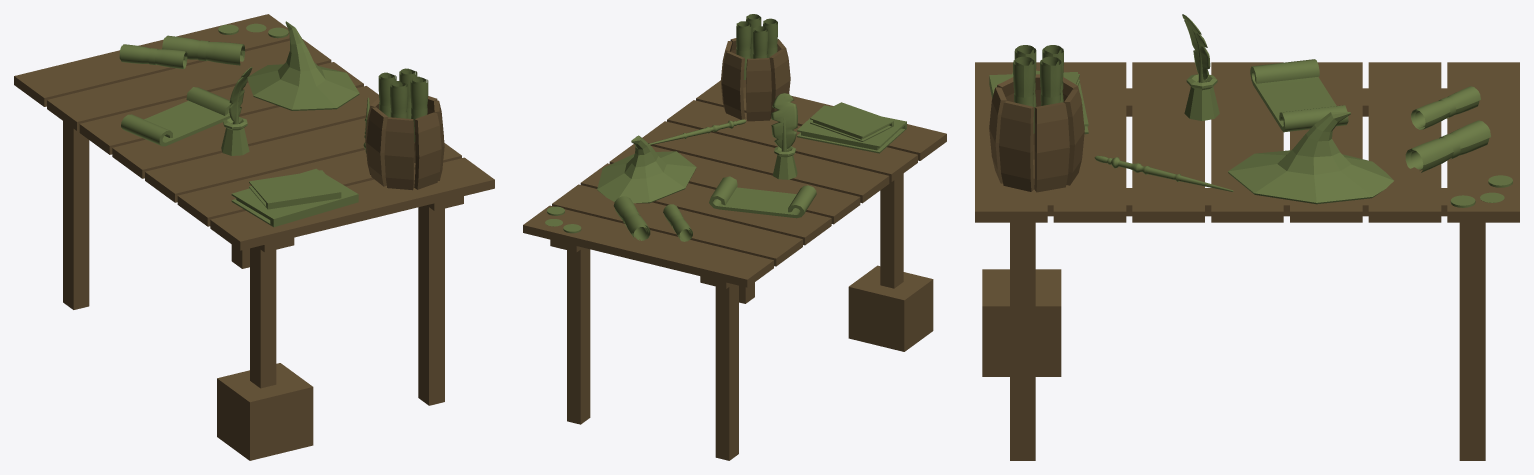
Rendered from mesa2Encantamiento.fbx.
The picture shows the model from 3 angles, left to right: view 1: azimuth 30°, elevation 25°; view 2: azimuth 150°, elevation 25°; view 3: azimuth 270°, elevation 25°; orthographic projection. The views are drawn at different scales.
Parts seen in each view (by area): view 1: polySurface5218, polySurface5223, polySurface5265, polySurface5257, polySurface5224, polySurface5229, polySurface5271, polySurface5261, polySurface5226, polySurface5260, polySurface5253, polySurface5251; view 2: polySurface5218, polySurface5223, polySurface5265, polySurface5257, polySurface5224, polySurface5229, polySurface5271, polySurface5261, polySurface5251, polySurface5226, polySurface5253, polySurface5260 (+1 smaller); view 3: polySurface5218, polySurface5265, polySurface5257, polySurface5223, polySurface5224, polySurface5271, polySurface5226, polySurface5260, polySurface5253, polySurface5256, polySurface5251.
Part boxes in pixels (x1,y1,x2,y2): polySurface5218: (14, 14, 494, 405); polySurface5223: (217, 363, 313, 460); polySurface5265: (365, 96, 444, 190); polySurface5257: (247, 21, 359, 110); polySurface5224: (121, 87, 231, 146); polySurface5229: (249, 170, 341, 209); polySurface5271: (378, 68, 428, 142); polySurface5261: (231, 168, 358, 227); polySurface5226: (162, 35, 245, 65); polySurface5260: (119, 44, 187, 68); polySurface5253: (221, 117, 249, 155); polySurface5251: (229, 67, 252, 124); polySurface5218: (523, 80, 946, 460); polySurface5223: (848, 265, 933, 351); polySurface5265: (720, 38, 790, 121); polySurface5257: (597, 135, 696, 203); polySurface5224: (709, 176, 816, 218); polySurface5229: (810, 102, 893, 141); polySurface5271: (736, 14, 777, 79); polySurface5261: (797, 105, 906, 153); polySurface5251: (771, 93, 797, 151); polySurface5226: (613, 196, 650, 240); polySurface5253: (772, 146, 797, 179); polySurface5260: (663, 204, 692, 241); polySurface5218: (975, 62, 1519, 460); polySurface5265: (989, 74, 1084, 192); polySurface5257: (1228, 112, 1393, 204); polySurface5223: (982, 269, 1061, 376); polySurface5224: (1250, 59, 1348, 132); polySurface5271: (1013, 45, 1063, 133); polySurface5226: (1405, 120, 1490, 172); polySurface5260: (1411, 86, 1480, 129); polySurface5253: (1184, 74, 1219, 120); polySurface5256: (1094, 155, 1233, 191); polySurface5251: (1182, 14, 1210, 82).
Bounding box in the file's own units: 121 × 147 × 187.
